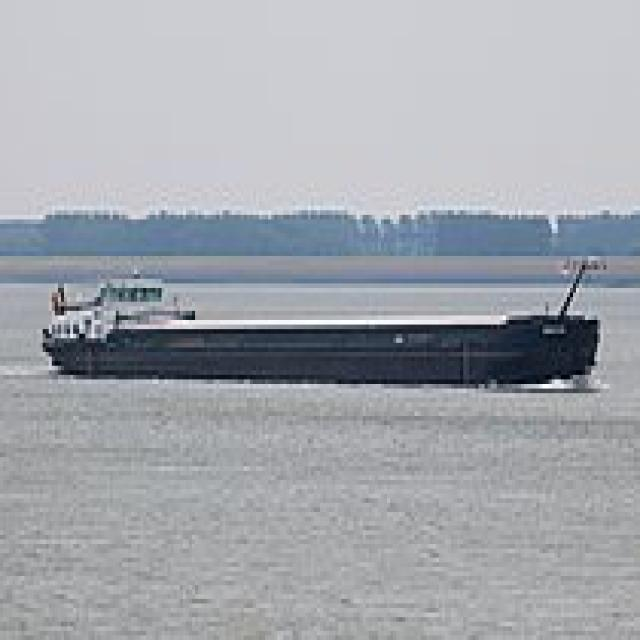Cargo: (37, 242, 600, 384)
